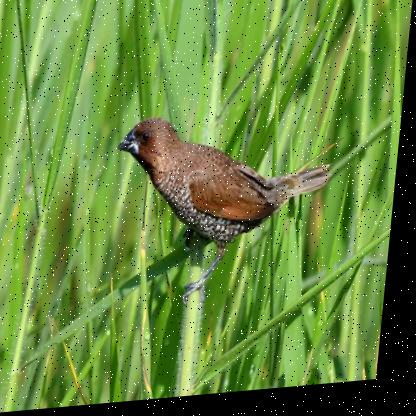Burung: (107, 107, 341, 314)
